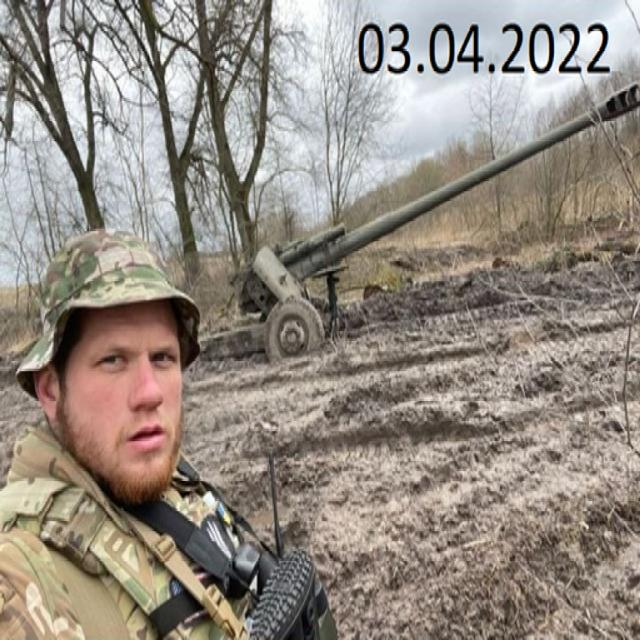ART: (211, 76, 639, 362)
